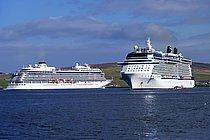Ship: (118, 35, 201, 95), (6, 58, 117, 95)
